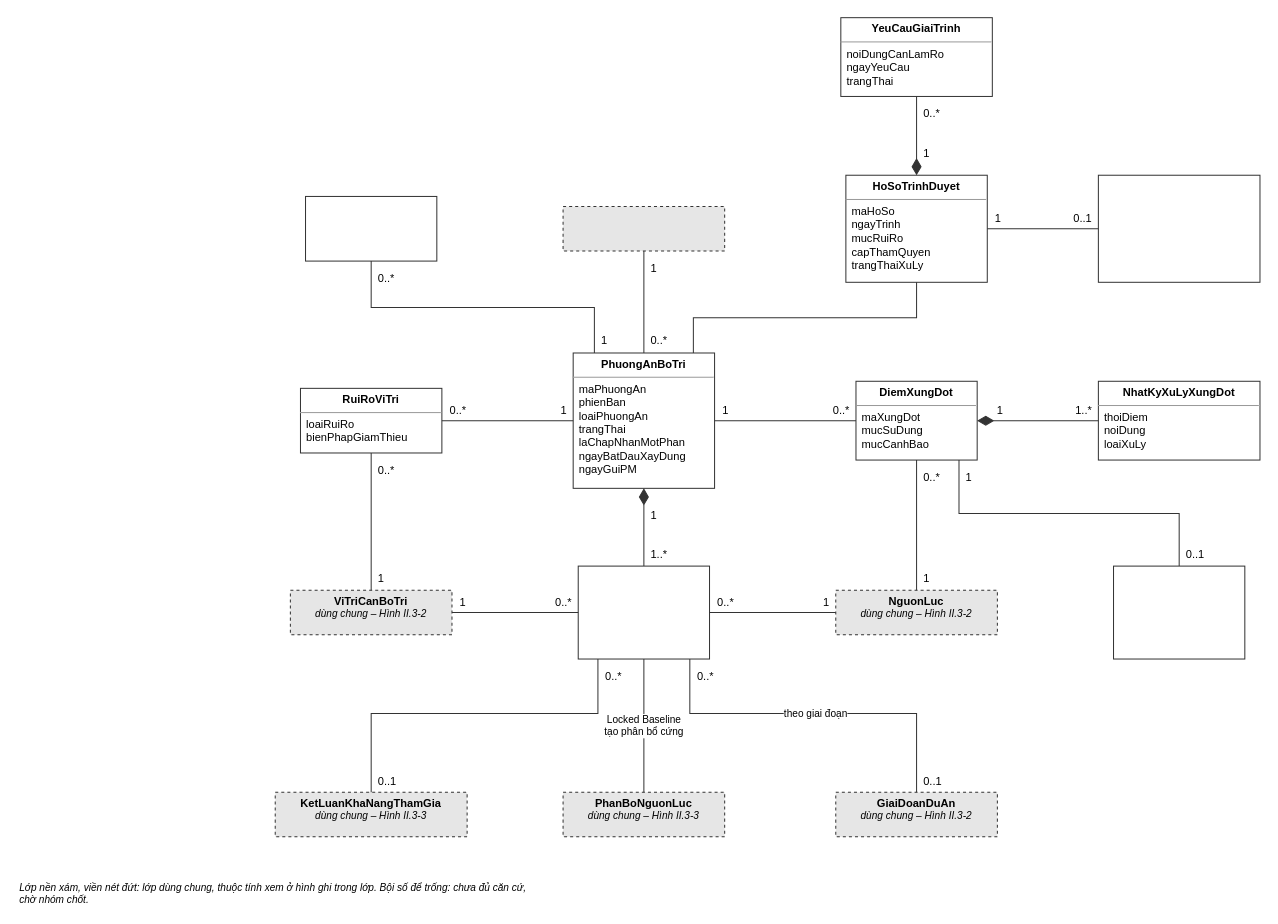
Image size: 1278x924. Some labels were removed from this diagram. Each missing label, with the centre of its shape:
"ChiTietBoTri vaiTroDuocGan tyLeThamGia tuNgay denNgay" belongs at (643,612).
"DeXuatThayDoi loaiThayDoi noiDung" belongs at (371,228).
"NhuCauNguonLuc dùng chung – Hình II.3-2" belongs at (643,228).
"PhanXuXungDot ngayChuyenCap lyDoBeTac capPhanXu noiDungQuyetDinh" belongs at (1179,612).
"QuyetDinhPheDuyet loaiQuyetDinh lyDo dieuKienApDung nguoiQuyetDinh thoiDiem" belongs at (1178,228).
